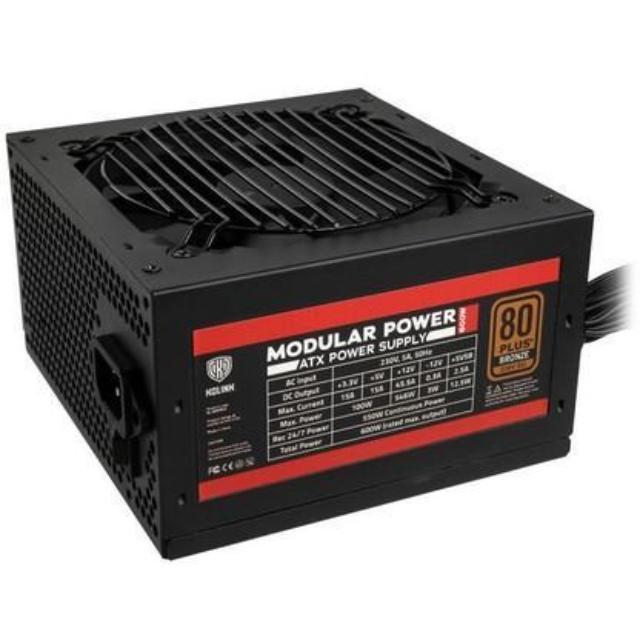PSU: (0, 53, 592, 578)
